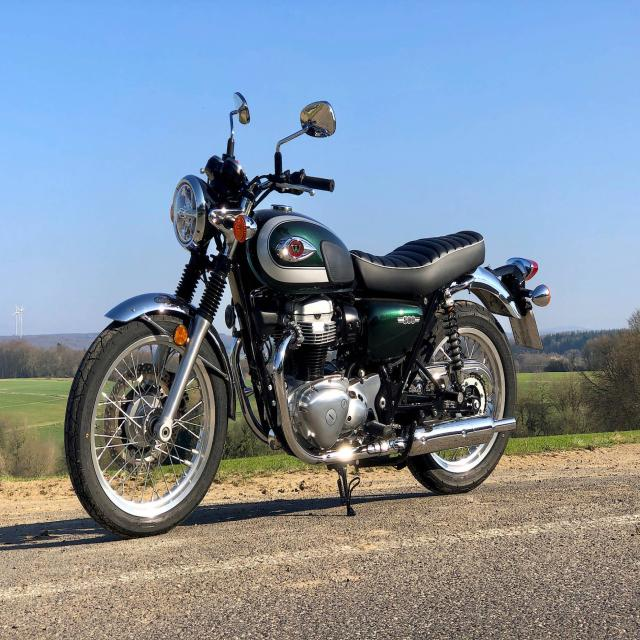Bike: (65, 92, 550, 536)
